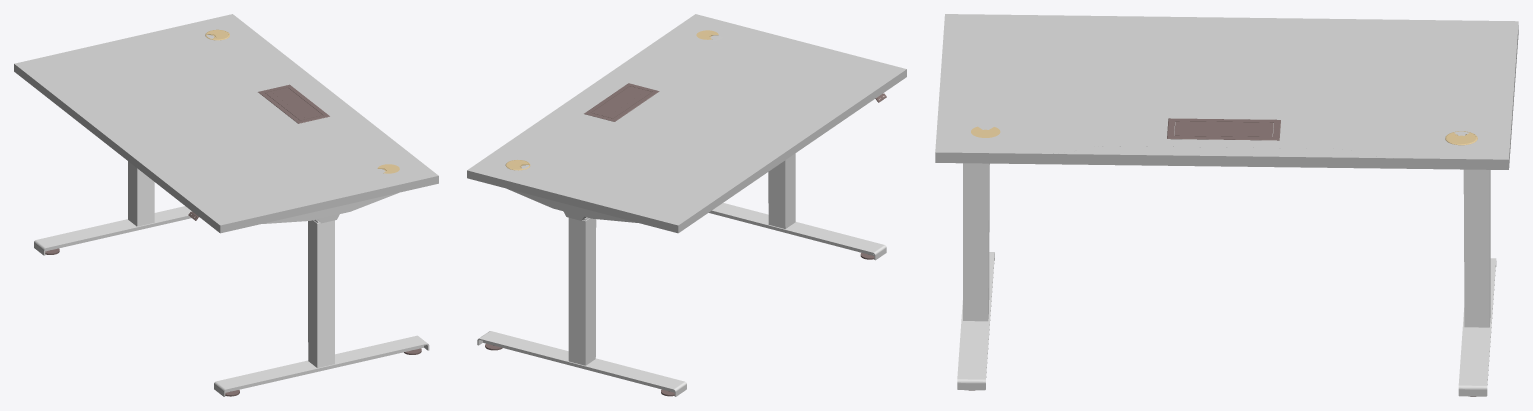
Rendered from desk.fbx.
3 renders of one model, left to right at view 1: azimuth 30°, elevation 25°; view 2: azimuth 150°, elevation 25°; view 3: azimuth 270°, elevation 25°, orthographic. The views are drawn at different scales.
Visible parts, largest first — view 1: wyciecie#$con|10|BOD64|1251#$top|1.001, stekarz2#$con|20|BOD64;BOD647#$frame|1.001, boc03_stopaboc03#$con|0|BOD64#$frame|1.001, nocable#$con|10|BOD64|1001#$top|1.001, m07pk80#$con|10|BOD64|M07;1002#$top|1.002, ta#$cable|10|1118|BOD62;BOD64;BOD66;BOD68;BOD70#$frame|1.001, boc03_stekarz3#$con|20|BOD64;BOD647#$frame|1.001, mediaboxtopaccess#$con|10|BOD64|1192;1118#$top|1.002; view 2: wyciecie#$con|10|BOD64|1251#$top|1.001, stekarz2#$con|20|BOD64;BOD647#$frame|1.001, boc03_stopaboc03#$con|0|BOD64#$frame|1.001, m07pk80#$con|10|BOD64|M07;1002#$top|1.002, nocable#$con|10|BOD64|1001#$top|1.001, ta#$cable|10|1118|BOD62;BOD64;BOD66;BOD68;BOD70#$frame|1.001, mediaboxtopaccess#$con|10|BOD64|1192;1118#$top|1.002, boc03_stekarz3#$con|20|BOD64;BOD647#$frame|1.001; view 3: wyciecie#$con|10|BOD64|1251#$top|1.001, stekarz2#$con|20|BOD64;BOD647#$frame|1.001, nocable#$con|10|BOD64|1001#$top|1.001, boc03_stopaboc03#$con|0|BOD64#$frame|1.001, m07pk80#$con|10|BOD64|M07;1002#$top|1.002, mediaboxtopaccess#$con|10|BOD64|1192;1118#$top|1.002, ta#$cable|10|1118|BOD62;BOD64;BOD66;BOD68;BOD70#$frame|1.001.
Boxes of the visible parts, x1,y1,x2,y2 form: wyciecie#$con|10|BOD64|1251#$top|1.001: [14, 14, 438, 233]; stekarz2#$con|20|BOD64;BOD647#$frame|1.001: [128, 161, 334, 367]; boc03_stopaboc03#$con|0|BOD64#$frame|1.001: [34, 206, 429, 396]; nocable#$con|10|BOD64|1001#$top|1.001: [14, 64, 438, 232]; m07pk80#$con|10|BOD64|M07;1002#$top|1.002: [14, 47, 438, 231]; ta#$cable|10|1118|BOD62;BOD64;BOD66;BOD68;BOD70#$frame|1.001: [258, 84, 329, 123]; boc03_stekarz3#$con|20|BOD64;BOD647#$frame|1.001: [262, 193, 397, 223]; mediaboxtopaccess#$con|10|BOD64|1192;1118#$top|1.002: [15, 65, 377, 231]; wyciecie#$con|10|BOD64|1251#$top|1.001: [467, 14, 906, 233]; stekarz2#$con|20|BOD64;BOD647#$frame|1.001: [568, 153, 795, 365]; boc03_stopaboc03#$con|0|BOD64#$frame|1.001: [477, 203, 886, 396]; m07pk80#$con|10|BOD64|M07;1002#$top|1.002: [469, 25, 905, 228]; nocable#$con|10|BOD64|1001#$top|1.001: [467, 56, 906, 230]; ta#$cable|10|1118|BOD62;BOD64;BOD66;BOD68;BOD70#$frame|1.001: [584, 83, 659, 121]; mediaboxtopaccess#$con|10|BOD64|1192;1118#$top|1.002: [638, 58, 906, 224]; boc03_stekarz3#$con|20|BOD64;BOD647#$frame|1.001: [508, 189, 637, 222]; wyciecie#$con|10|BOD64|1251#$top|1.001: [935, 14, 1518, 169]; stekarz2#$con|20|BOD64;BOD647#$frame|1.001: [963, 163, 1490, 327]; nocable#$con|10|BOD64|1001#$top|1.001: [935, 146, 1508, 169]; boc03_stopaboc03#$con|0|BOD64#$frame|1.001: [957, 252, 1496, 396]; m07pk80#$con|10|BOD64|M07;1002#$top|1.002: [936, 25, 1518, 169]; mediaboxtopaccess#$con|10|BOD64|1192;1118#$top|1.002: [936, 146, 1505, 169]; ta#$cable|10|1118|BOD62;BOD64;BOD66;BOD68;BOD70#$frame|1.001: [1167, 118, 1280, 140].
Bounding box in the file's own units: 21.43 × 16.41 × 35.9.
